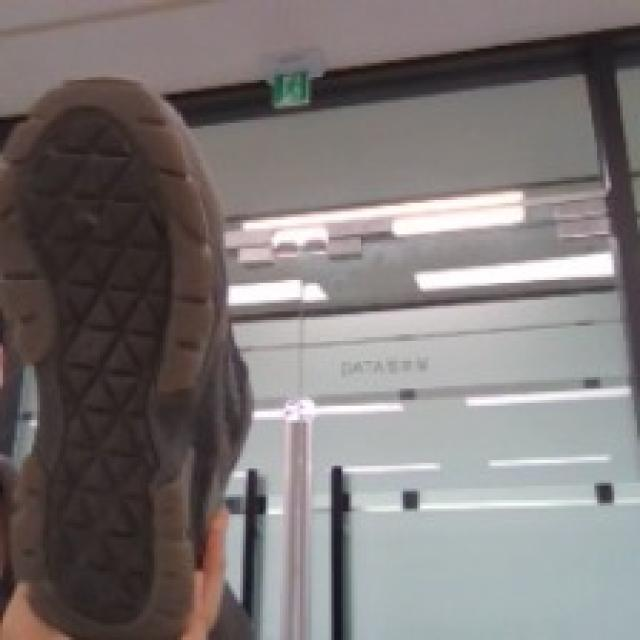shoe: (0, 77, 226, 640)
